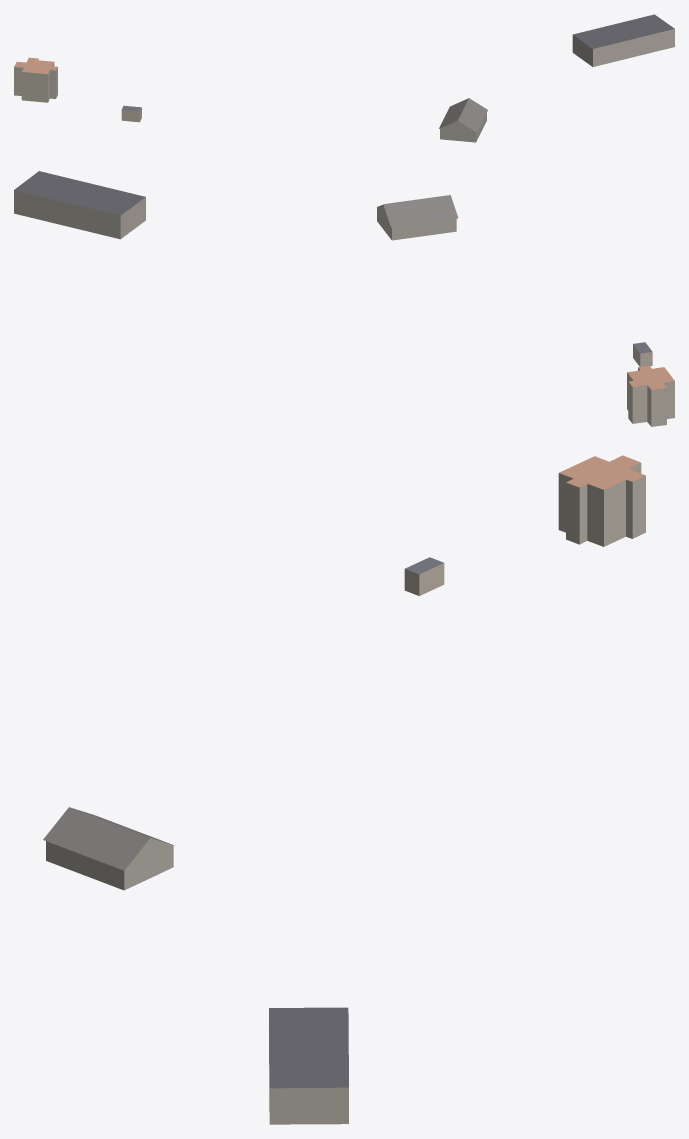
3 views of the same model, one above another, from view 1: azimuth 30°, elevation 25°; view 2: azimuth 150°, elevation 25°; view 3: azimuth 270°, elevation 25° (orthographic). The views are drawn at different scales.
Parts seen in each view (by area): view 1: tuile; view 2: tuile; view 3: tuile.
Boxes of the visible parts, x1=… form: tuile: x1=14, y1=14, x2=674, y2=142; tuile: x1=14, y1=171, x2=674, y2=426; tuile: x1=43, y1=455, x2=645, y2=1124.
Bounding box in the file's own units: 216 × 19.92 × 98.7.
